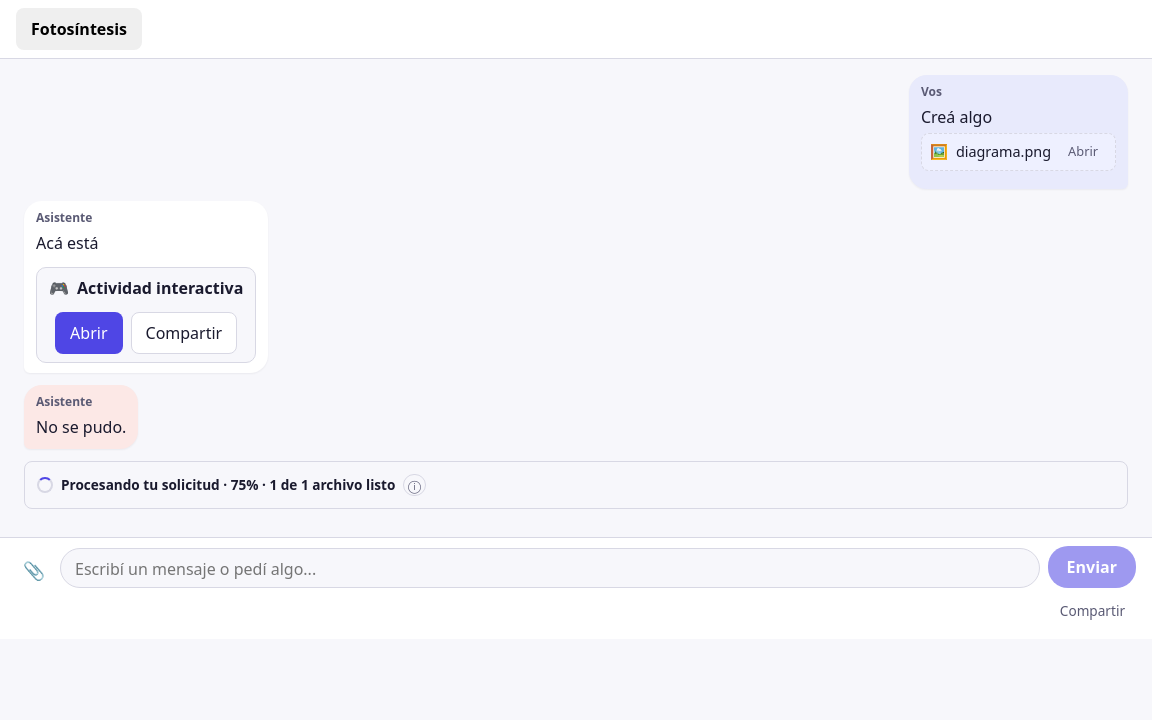
it: WorkspaceView › re-renders the compact progress without resetting previous counts
The width and height of the screenshot is (1152, 720).
Check: the text "Procesando tu solicitud · 75% · 1 de 1 archivo listo" is shown, box [61,475,395,495]
Click the button named "Detalles del procesamiento".
click(415, 485)  # box [403,474,426,496]
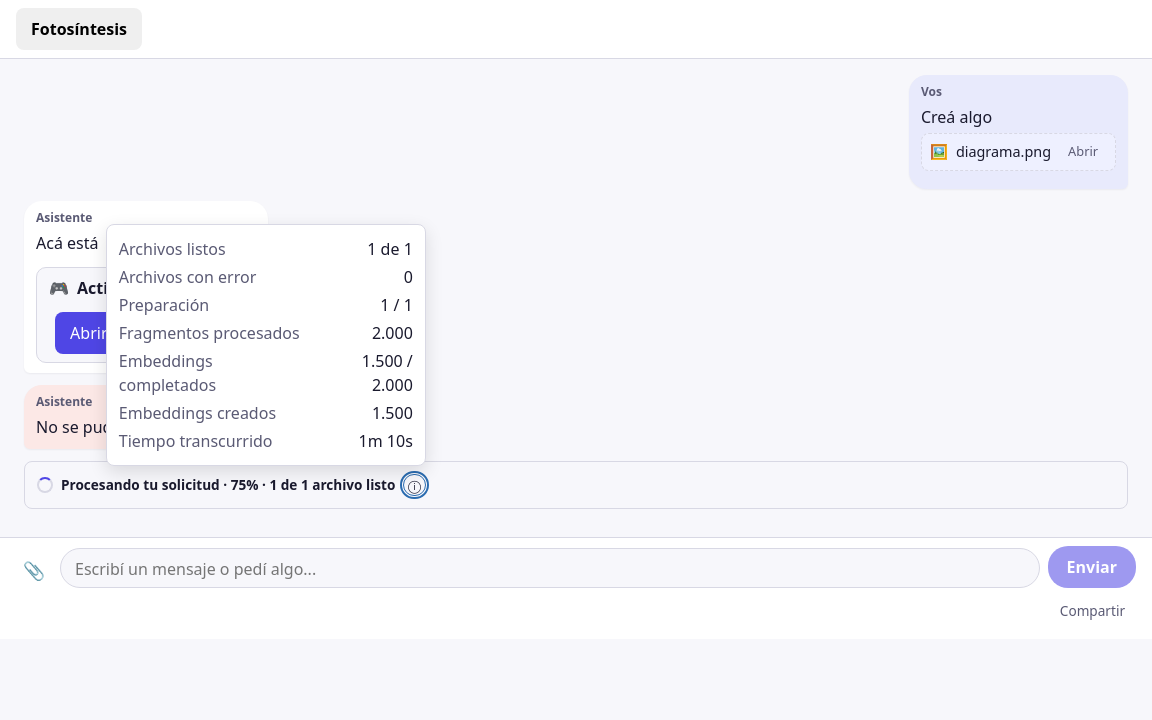
Check: the text "1.500 / 2.000" is shown, box [362,350,413,396]
Check: the text "Embeddings creados" is shown, box [119,402,276,424]
Check: the text "1.500" is shown, box [372,402,413,424]
